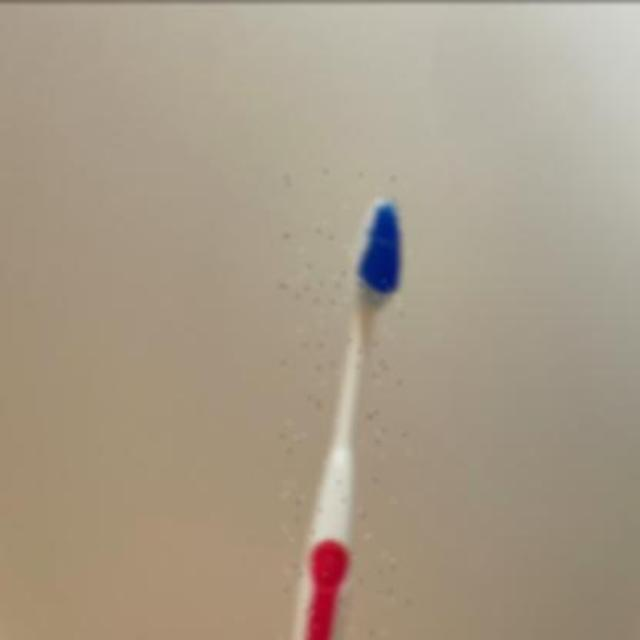toothbrush: (280, 170, 410, 640)
